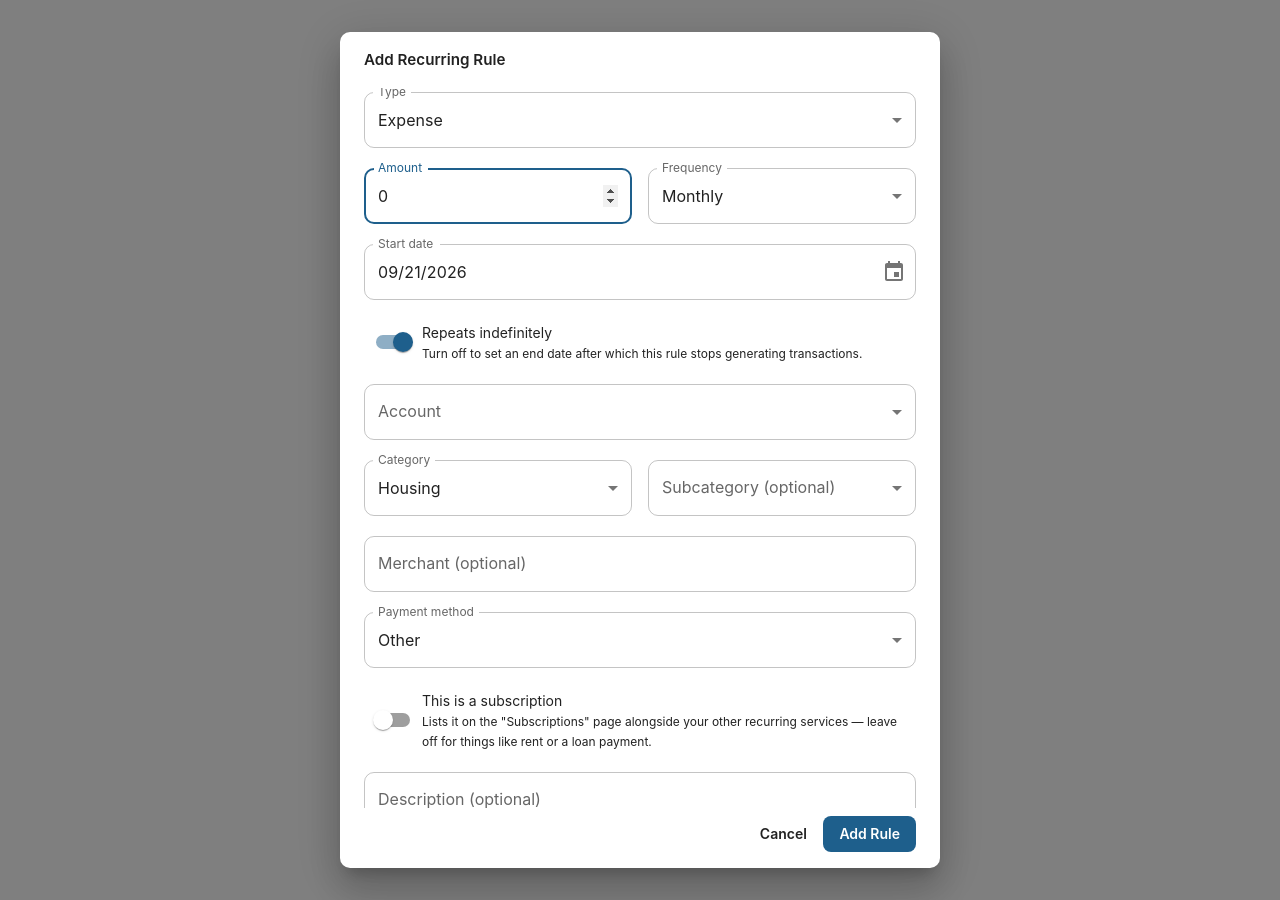
Test: RecurringTransactionFormDialog › shows an end date picker only when "Repeats indefinitely" is turned off
Click the switch labelled "Repeats indefinitely" at coordinates (393, 342), box [364,320,916,364]
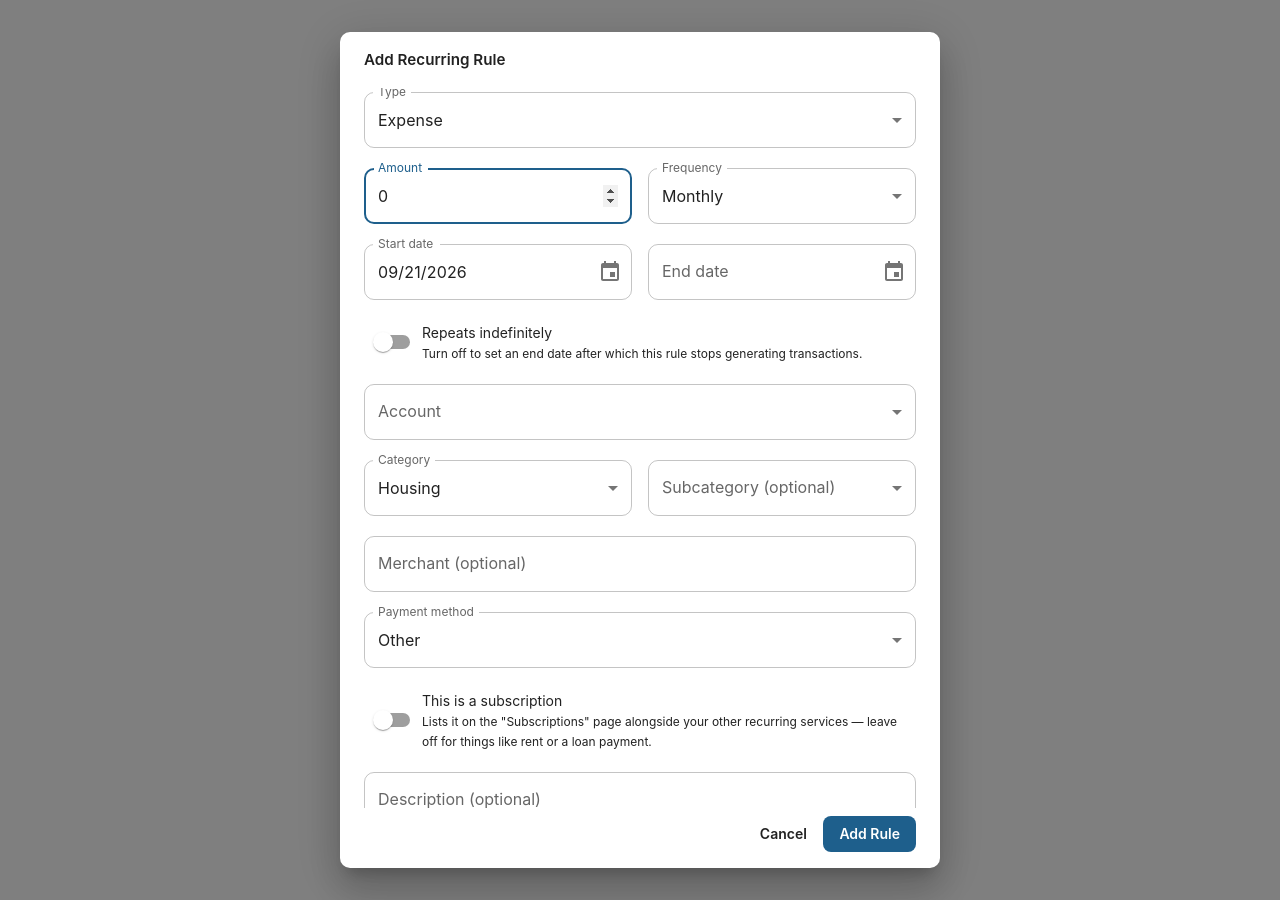
expect the 7th element named "End date" is shown: met, box [648,244,916,300]
